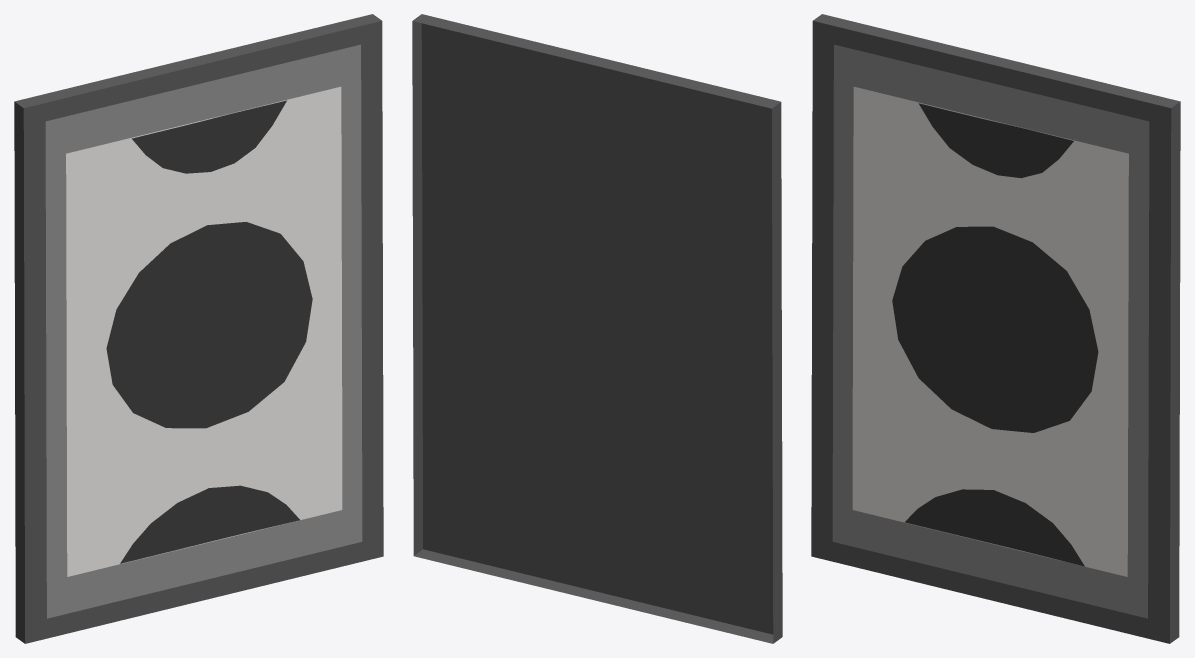
Rendered from Picture_3.fbx.
3 views of the same model, side by side, from view 1: azimuth 30°, elevation 25°; view 2: azimuth 150°, elevation 25°; view 3: azimuth 330°, elevation 25° (orthographic).
Parts seen in each view (by area): view 1: Picture_3; view 2: Picture_3; view 3: Picture_3.
Boxes of the visible parts, x1,y1,x2,y2 form: Picture_3: [14, 14, 383, 643]; Picture_3: [412, 14, 782, 643]; Picture_3: [811, 14, 1180, 643].
Bounding box in the file's own units: 95.68 × 5.34 × 136.
